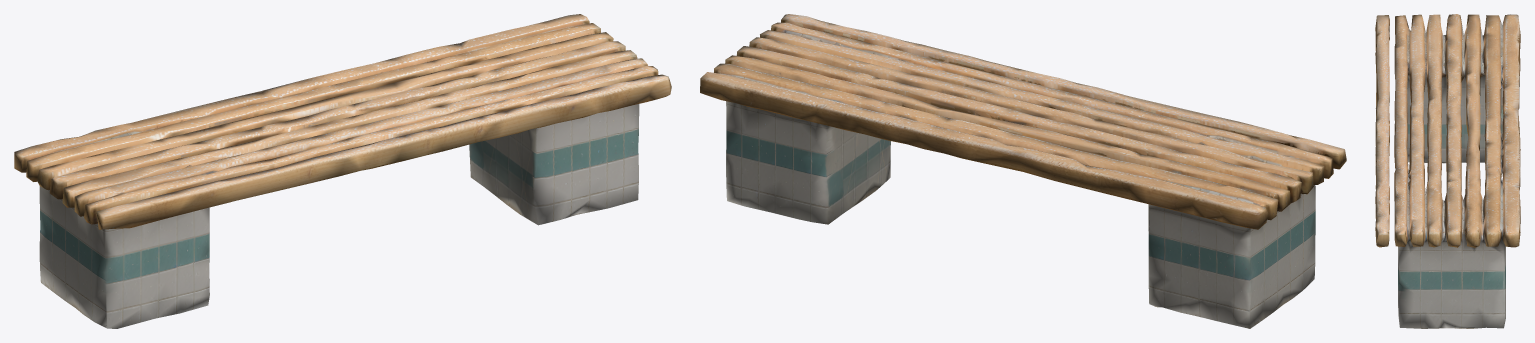
File: VAR_Shower_Bench.fbx
3 renders of one model, left to right at view 1: azimuth 30°, elevation 25°; view 2: azimuth 150°, elevation 25°; view 3: azimuth 270°, elevation 25°, orthographic. The views are drawn at different scales.
Parts seen in each view (by area): view 1: texture_mapping; view 2: texture_mapping; view 3: texture_mapping.
Boxes of the visible parts, x1,y1,x2,y2 form: texture_mapping: (14,14,671,328); texture_mapping: (700,14,1346,328); texture_mapping: (1375,14,1520,328).
Size of the model in its own units: 1 by 0.2784 by 0.2214.
Materials: 1 (1 with a texture image).
